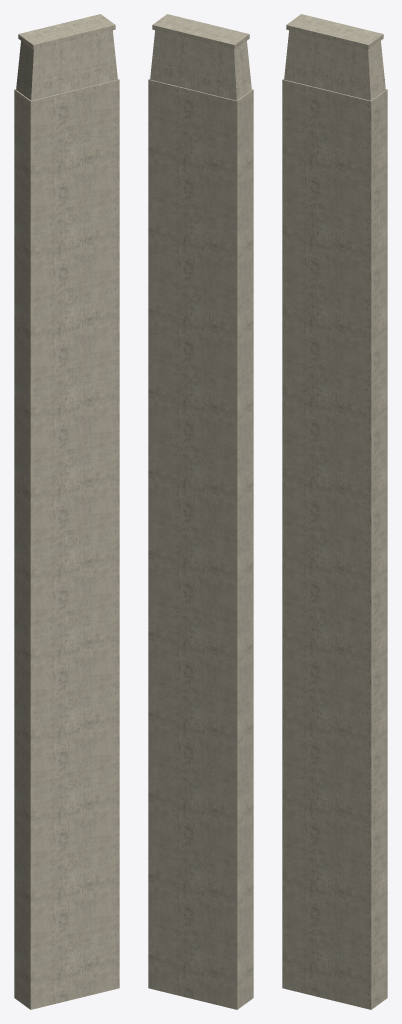
The model's file is BridgePillar2.FBX.
3 renders of one model, left to right at view 1: azimuth 30°, elevation 25°; view 2: azimuth 150°, elevation 25°; view 3: azimuth 330°, elevation 25°, orthographic.
Parts seen in each view (by area): view 1: BridgePillar2-2L; view 2: BridgePillar2-2L; view 3: BridgePillar2-2L.
Part boxes in pixels (x1,y1,x2,y2): BridgePillar2-2L: (14,14,119,1009); BridgePillar2-2L: (148,14,253,1009); BridgePillar2-2L: (282,14,387,1009).
Bounding box in the file's own units: 20.48 × 212 × 6.5.
